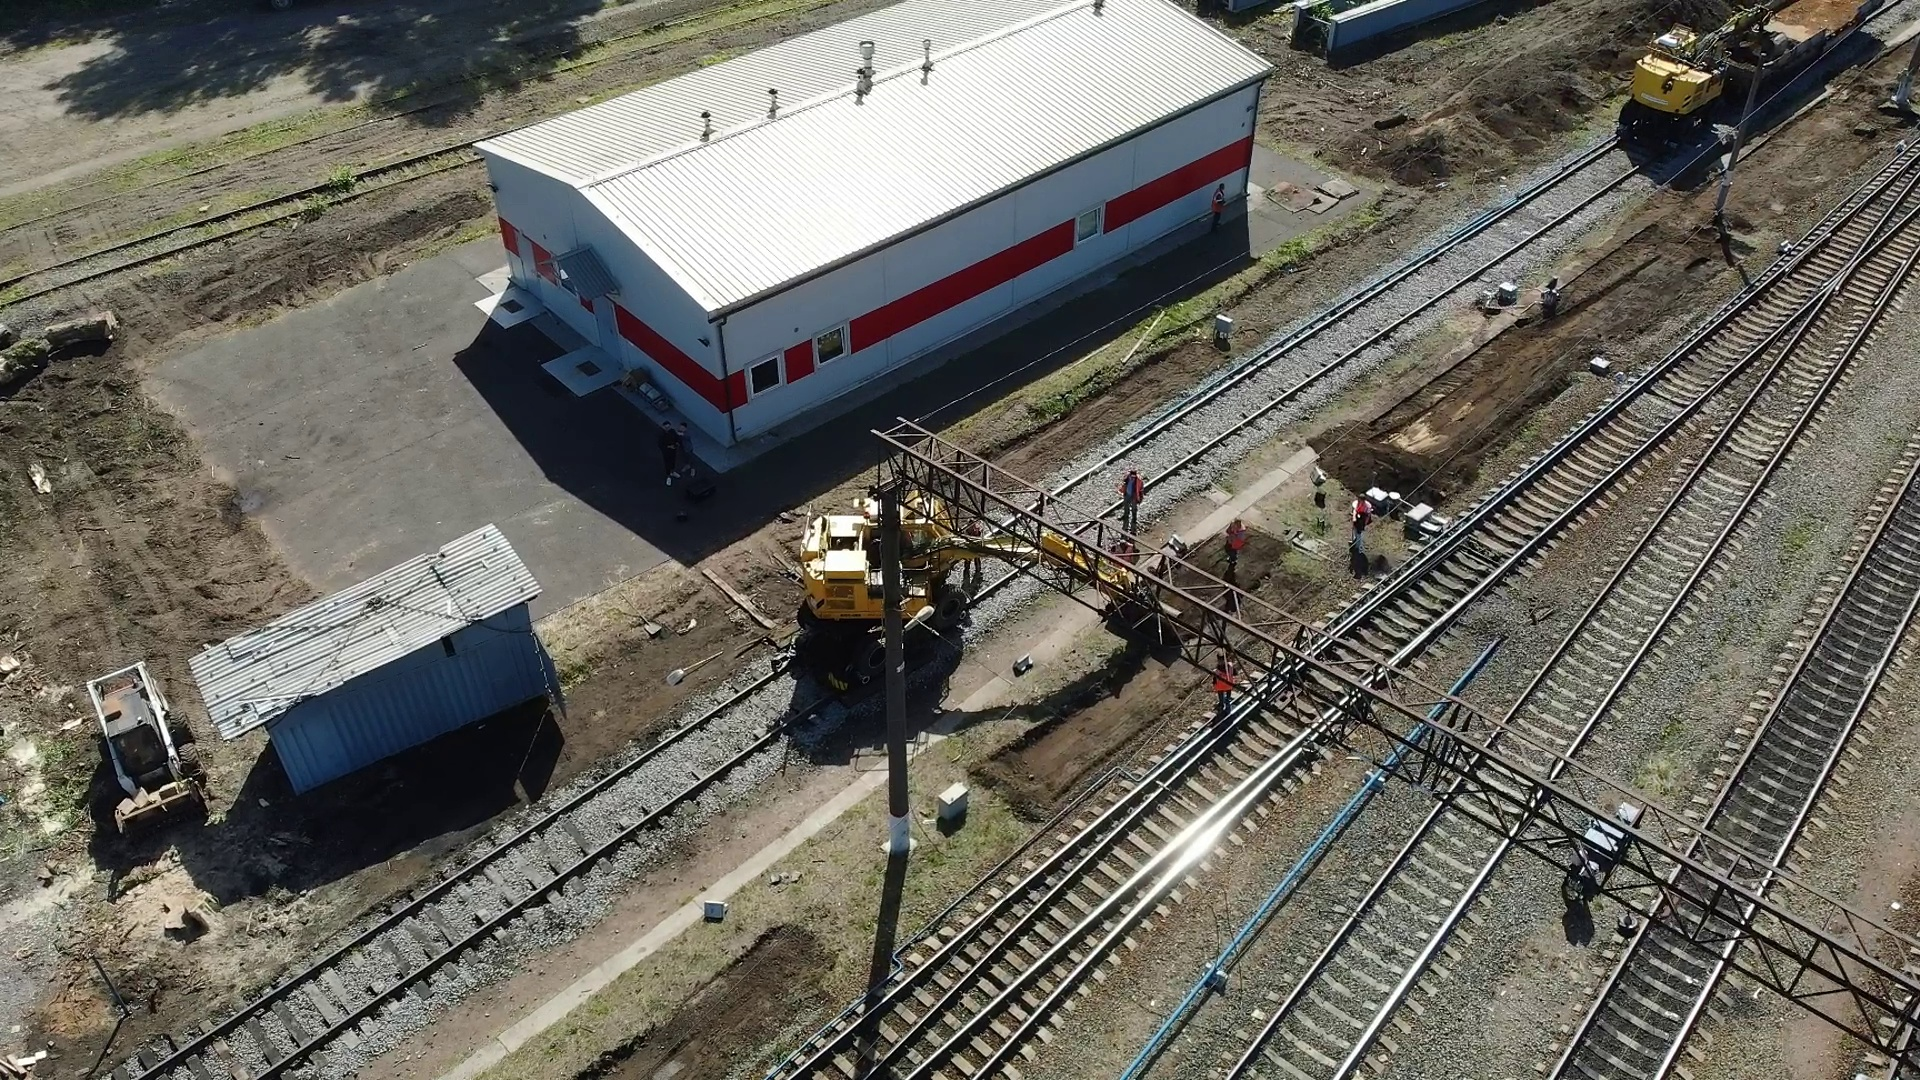kjtv: (794, 512, 1054, 684)
